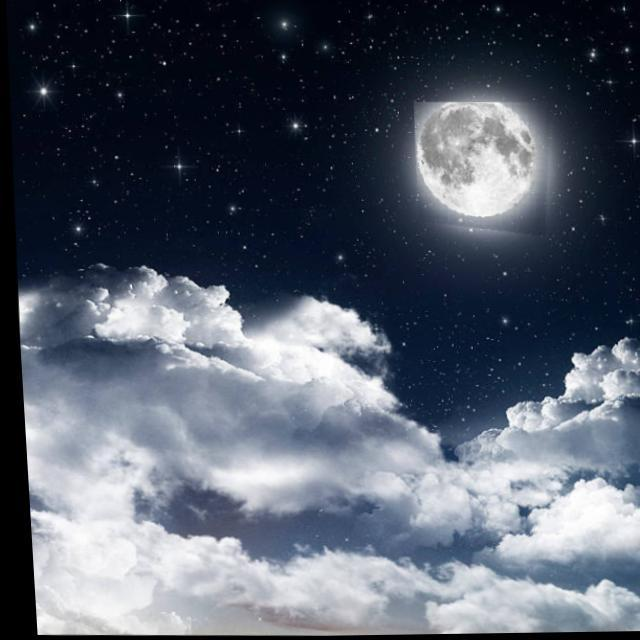moon: (410, 101, 554, 239)
